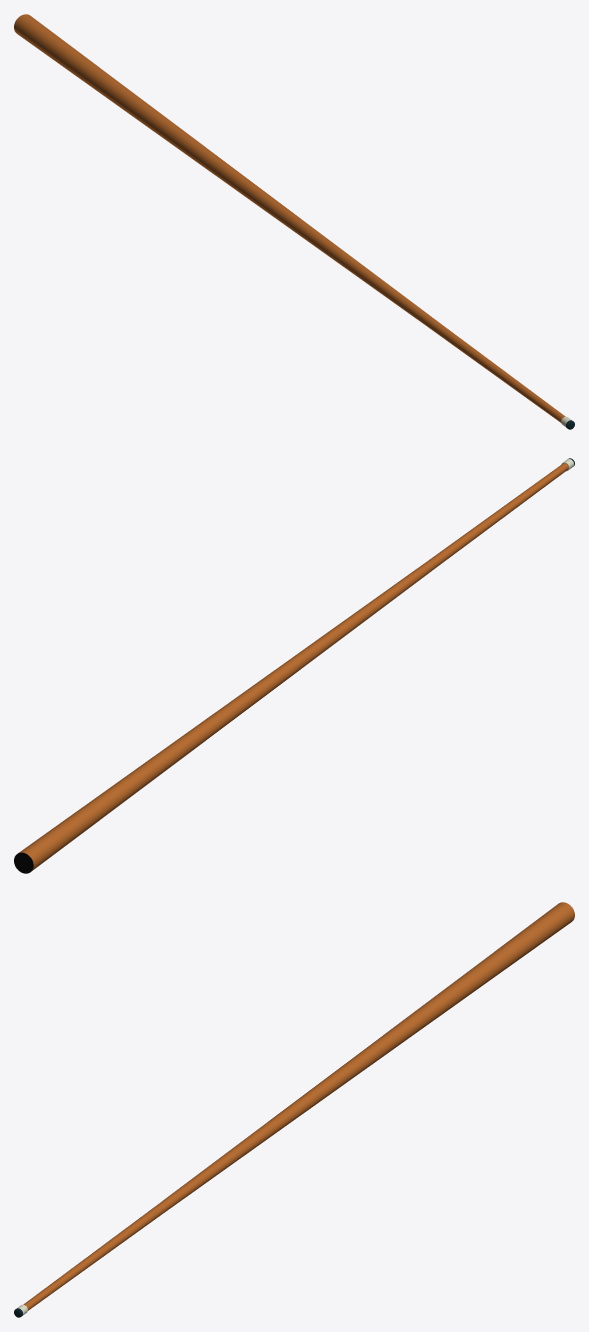
File: Cue_Adapted.obj
The picture shows the model from 3 angles, top to bottom: view 1: azimuth 30°, elevation 25°; view 2: azimuth 150°, elevation 25°; view 3: azimuth 330°, elevation 25°; orthographic projection.
Visible parts, largest first — view 1: Reused_Cue0_Hero; view 2: Reused_Cue0_Hero; view 3: Reused_Cue0_Hero.
Boxes of the visible parts, bbox=[...] form: Reused_Cue0_Hero: bbox=[14, 14, 574, 429]; Reused_Cue0_Hero: bbox=[14, 458, 574, 873]; Reused_Cue0_Hero: bbox=[14, 902, 574, 1317].
Bounding box in the file's own units: 0.03 × 0.03 × 1.45.
